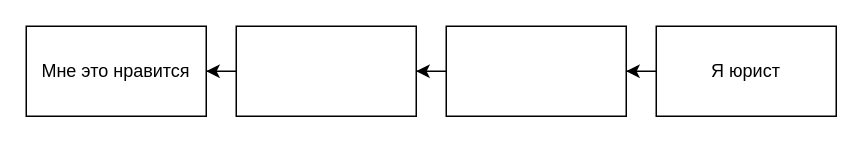
Some shapes in this 863 by 143 pixel diagram are drawn without their labels. The shapes that lost their labels are listed below. From the top down, each one's centre as x and y in pixels, then its label:
(x=325, y=70): Люблю получать гонорар
(x=535, y=70): Люблю выигрывать судебный процесс
